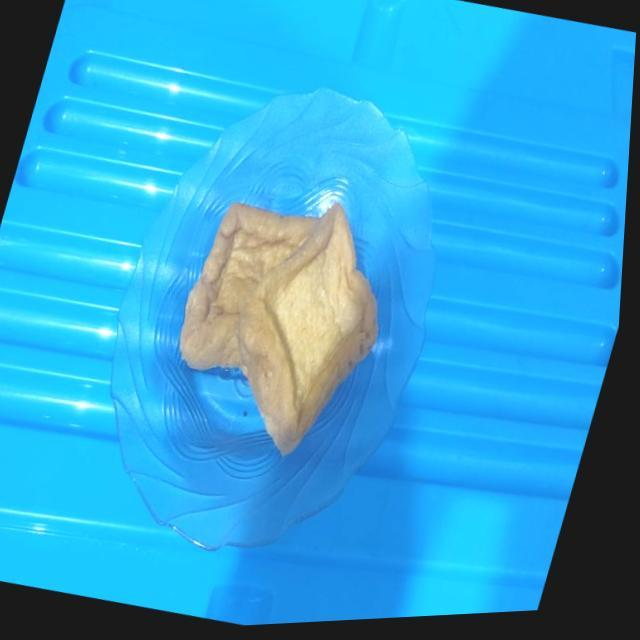tahu_goreng: (235, 202, 378, 455), (180, 202, 320, 370)
